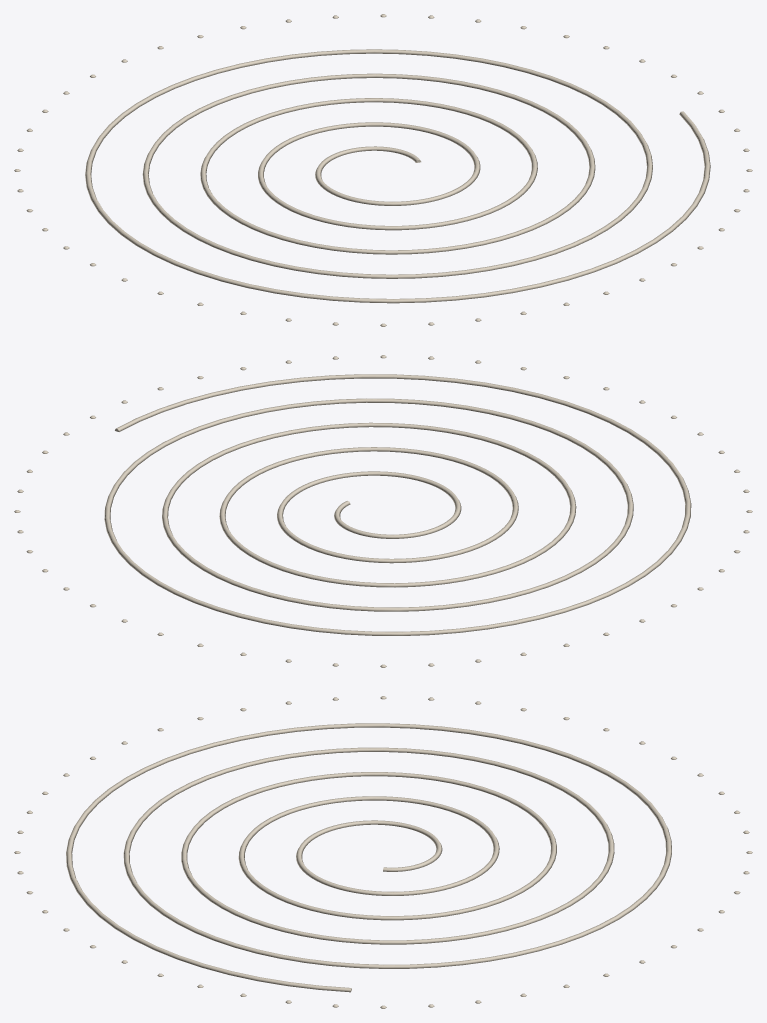
Rendered from SM_SandLabyrinth.fbx.
The picture shows the model from 3 angles, top to bottom: view 1: azimuth 30°, elevation 25°; view 2: azimuth 150°, elevation 25°; view 3: azimuth 270°, elevation 25°; orthographic projection.
Visible parts, largest first — view 1: SM_SandLabyrinth; view 2: SM_SandLabyrinth; view 3: SM_SandLabyrinth.
Part boxes in pixels (box(x1,y1,x2,y2)): SM_SandLabyrinth: box(14, 14, 752, 326); SM_SandLabyrinth: box(14, 355, 752, 667); SM_SandLabyrinth: box(14, 696, 752, 1008).
Size of the model in its own units: 10887 by 41.97 by 10900.
